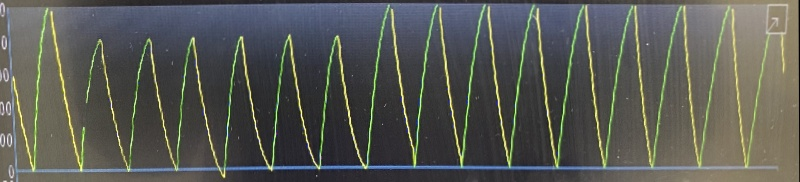normal_volume: (4, 2, 759, 176)
